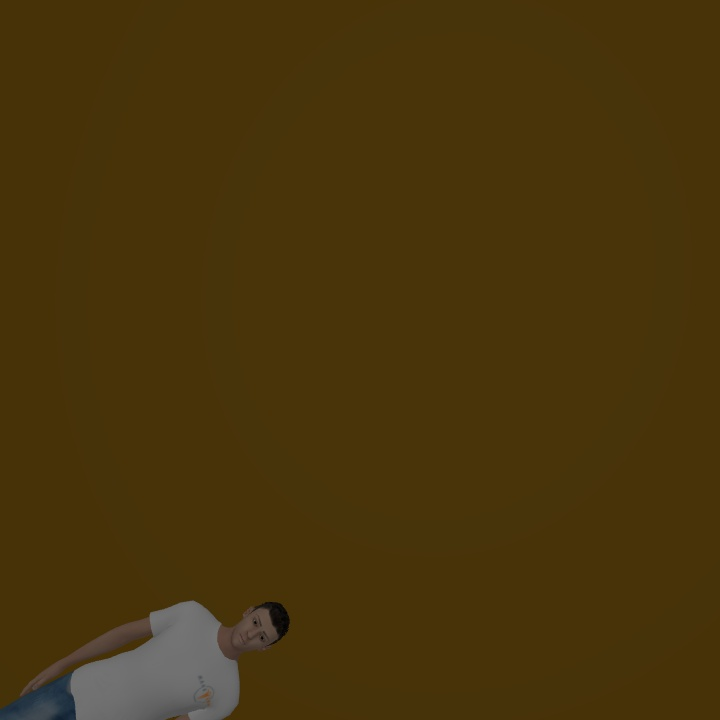victim: (1, 598, 290, 719)
